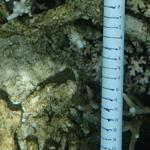dead: (6, 5, 94, 145)
